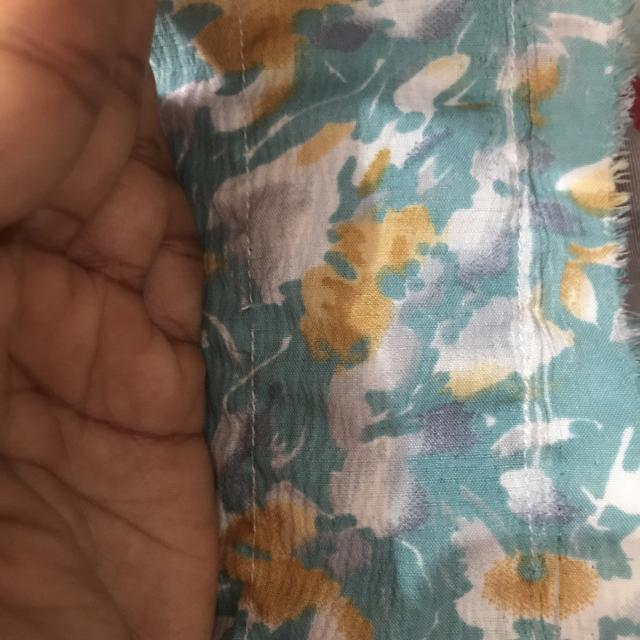broken: (228, 296, 276, 348)
